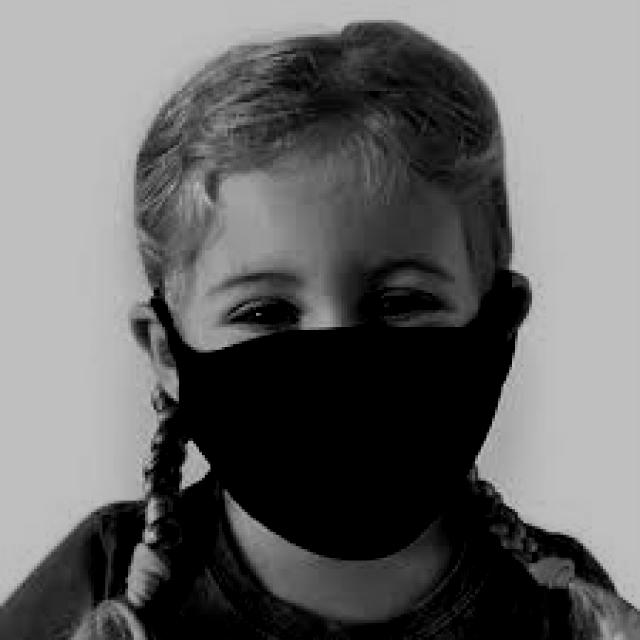fake: (130, 264, 542, 576)
real: (189, 148, 487, 574)
